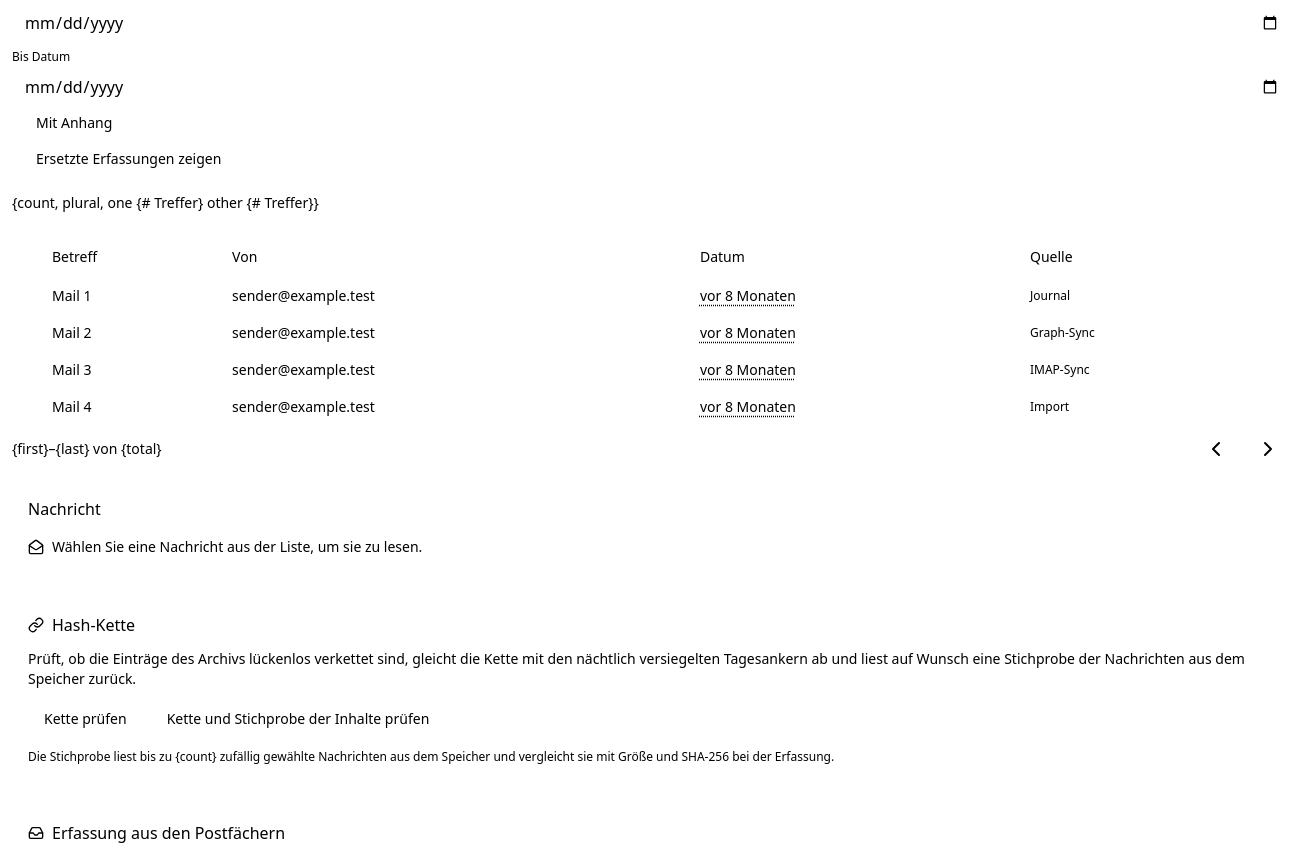
ArchivePage capture source › is translated to German
The image size is (1304, 850).
(page scrolled)
Click the row that starts with "Mail 4": coordinates (72, 406) [12,388,1292,425]
(page scrolled)
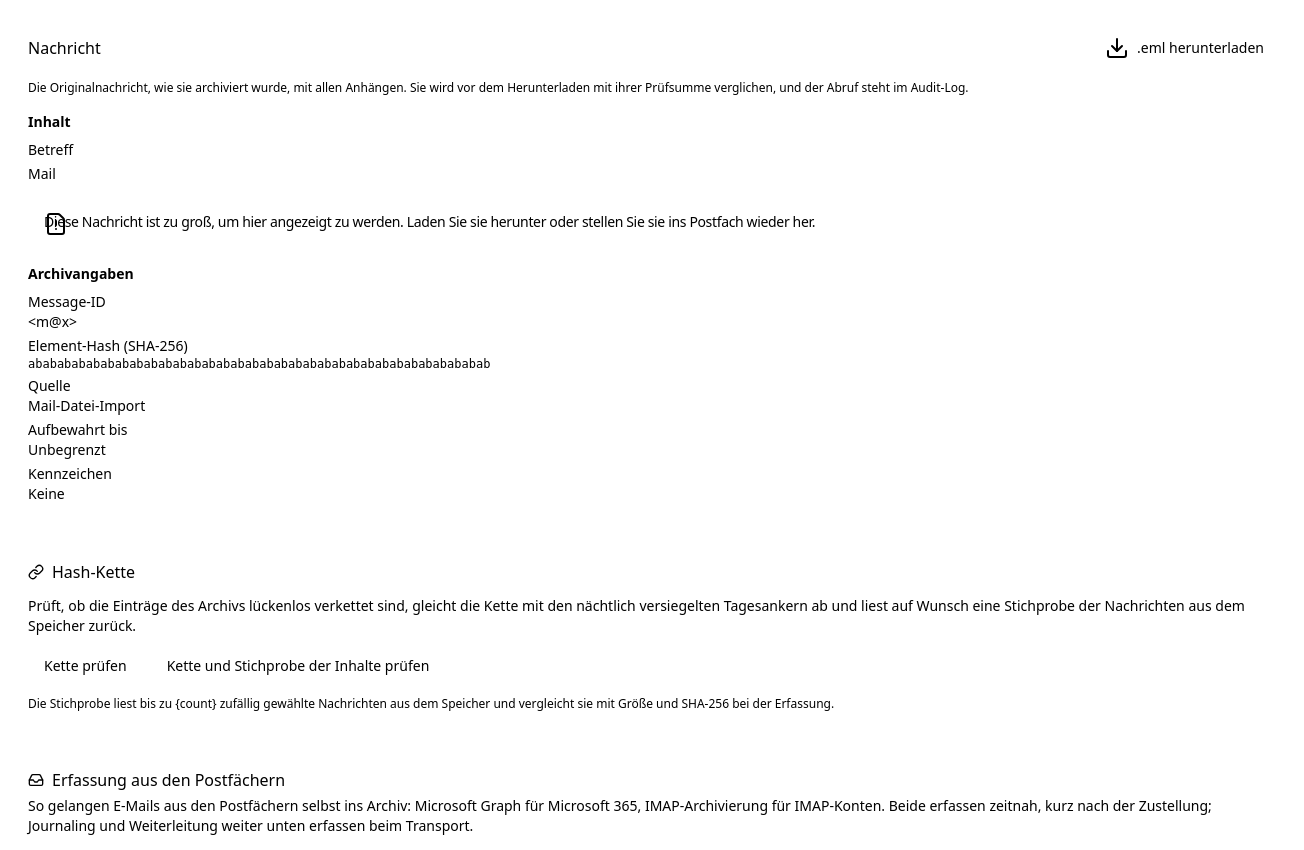
Now the text "Mail-Datei-Import" is shown, box [28,396,145,415]
